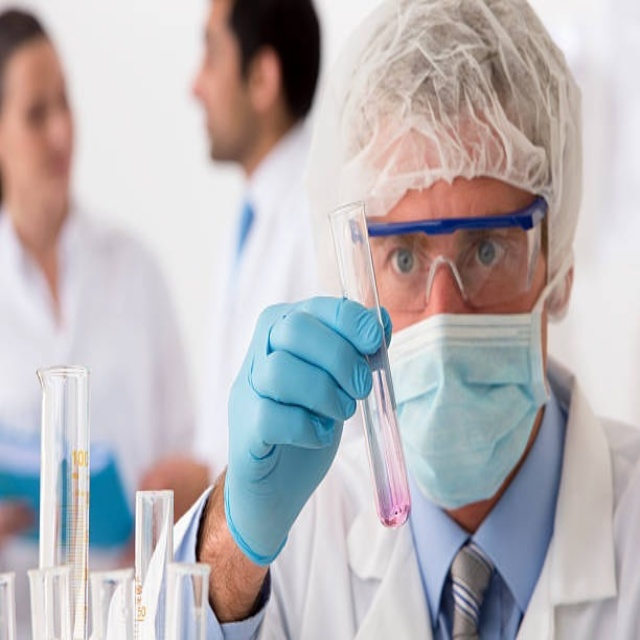Gafas: (362, 198, 546, 311)
Guantes: (222, 296, 390, 565)
Mascara: (385, 290, 553, 509)
Sin_guantes: (0, 492, 35, 546)
Sin_mascara: (46, 148, 70, 177)
